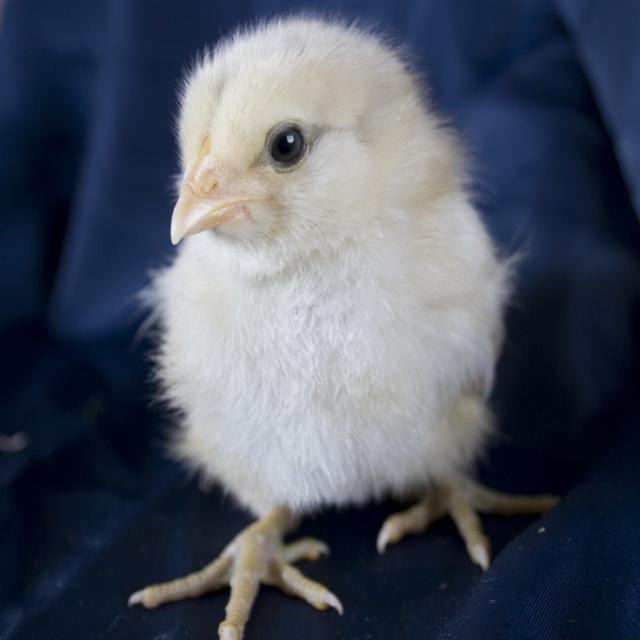Chicken: (81, 11, 524, 640)
